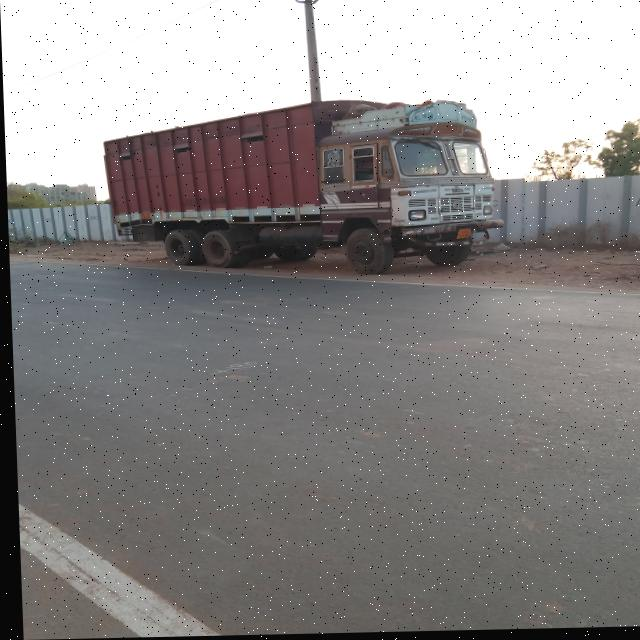plate: (453, 230, 471, 241)
